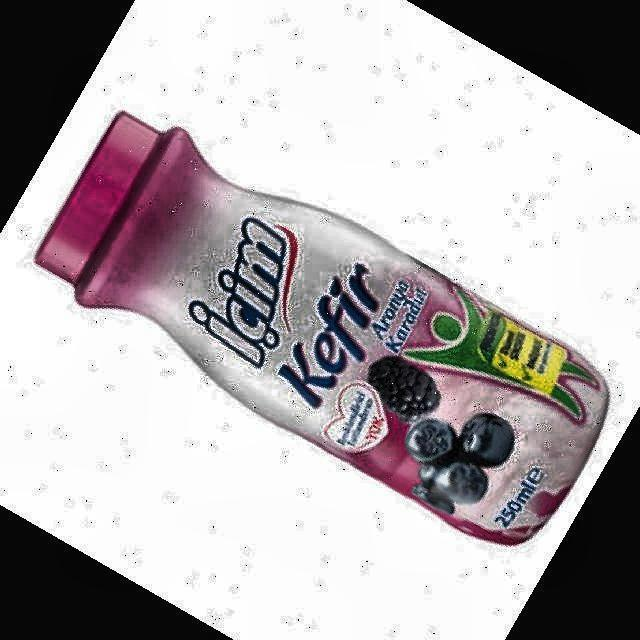plastic: (36, 112, 609, 544)
